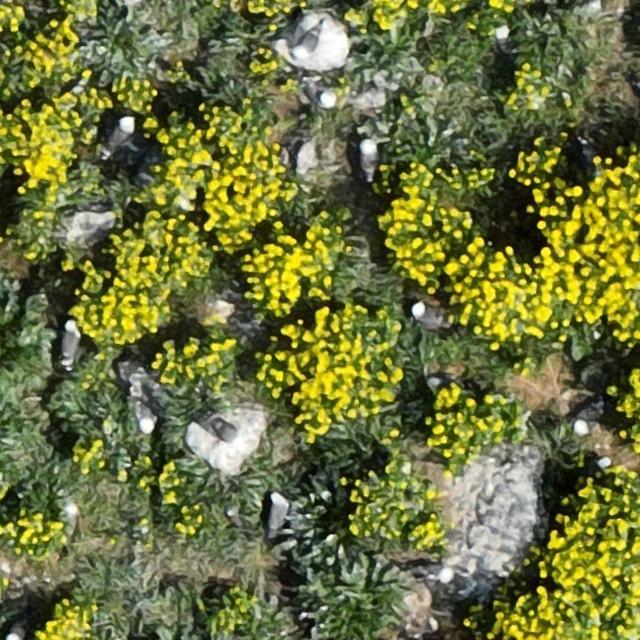umineko: (108, 116, 135, 152), (573, 403, 599, 433), (60, 320, 78, 362), (410, 303, 442, 326), (268, 492, 286, 532), (360, 140, 378, 179), (138, 398, 157, 433), (295, 32, 319, 59), (213, 420, 241, 443), (306, 83, 334, 106)
